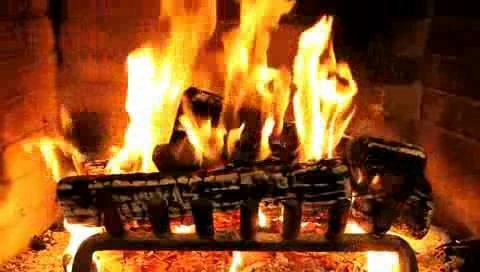fire: (113, 1, 362, 184)
